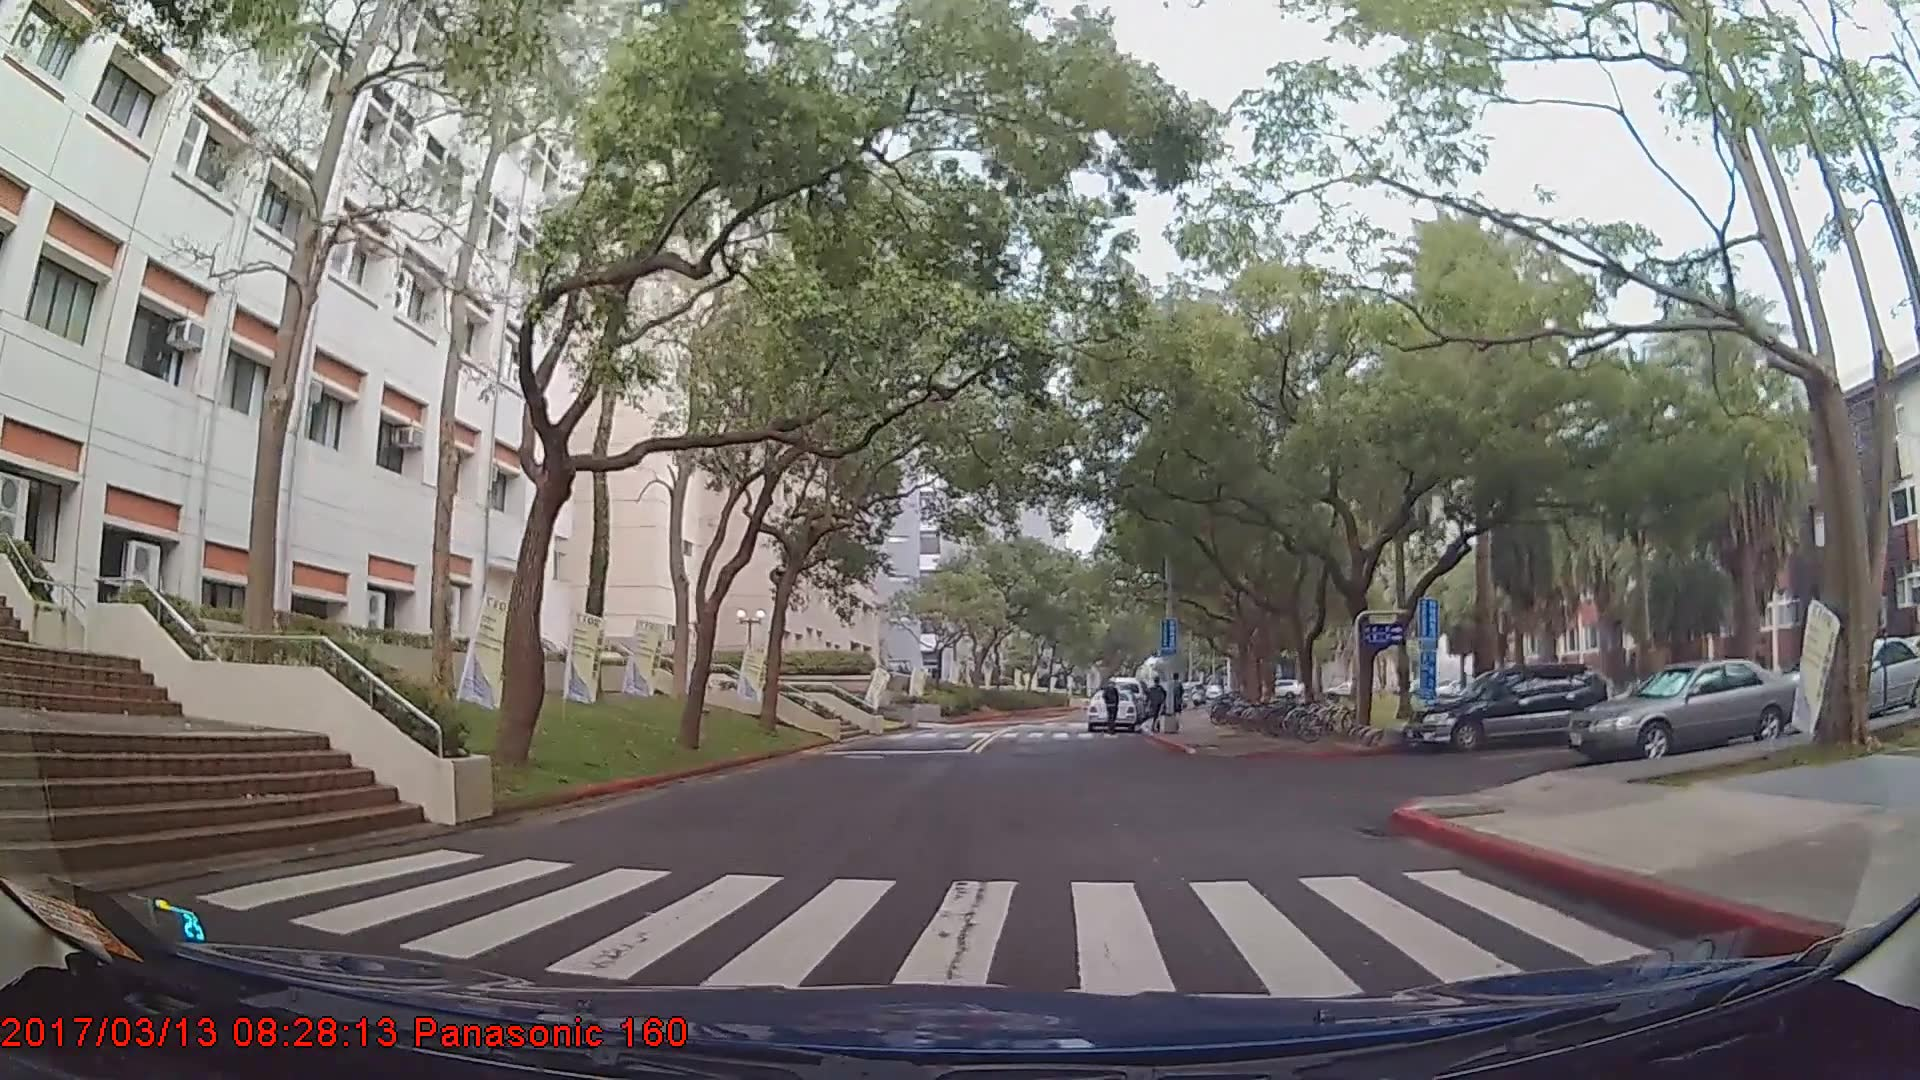pedestrian: (1147, 678, 1170, 731), (1101, 682, 1121, 738)
vehicle: (1569, 656, 1799, 766), (1410, 662, 1611, 752), (1082, 687, 1138, 731)
